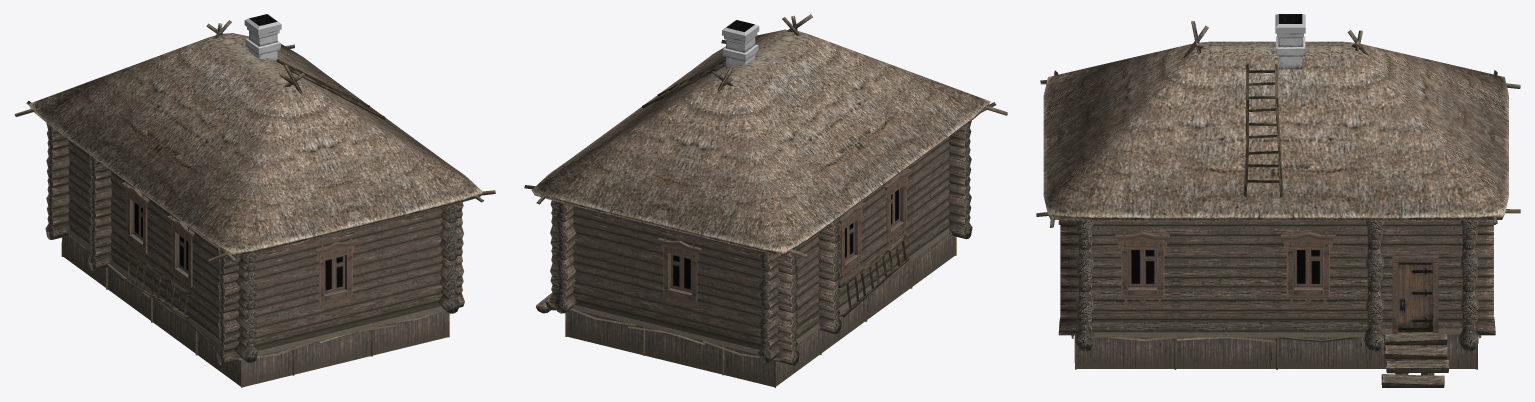
File: house_1.fbx
3 views of the same model, side by side, from view 1: azimuth 30°, elevation 25°; view 2: azimuth 150°, elevation 25°; view 3: azimuth 270°, elevation 25° (orthographic). The views are drawn at different scales.
Visible parts, largest first — view 1: House_1; view 2: House_1; view 3: House_1.
Boxes of the visible parts, bbox=[...] form: House_1: bbox=[14, 14, 495, 387]; House_1: bbox=[524, 14, 1007, 387]; House_1: bbox=[1036, 14, 1520, 387].
Bounding box in the file's own units: 952 × 830 × 1209.
Materials: 1 (1 with a texture image).
